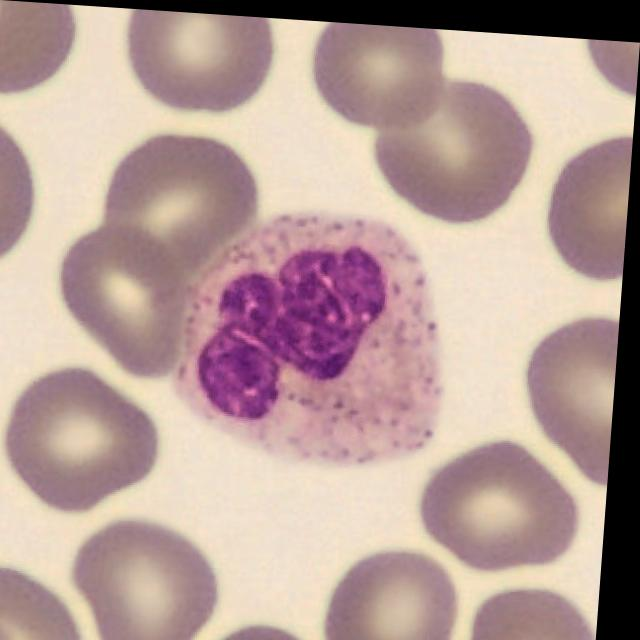Neutrofilo segmentado: (177, 208, 450, 462)
